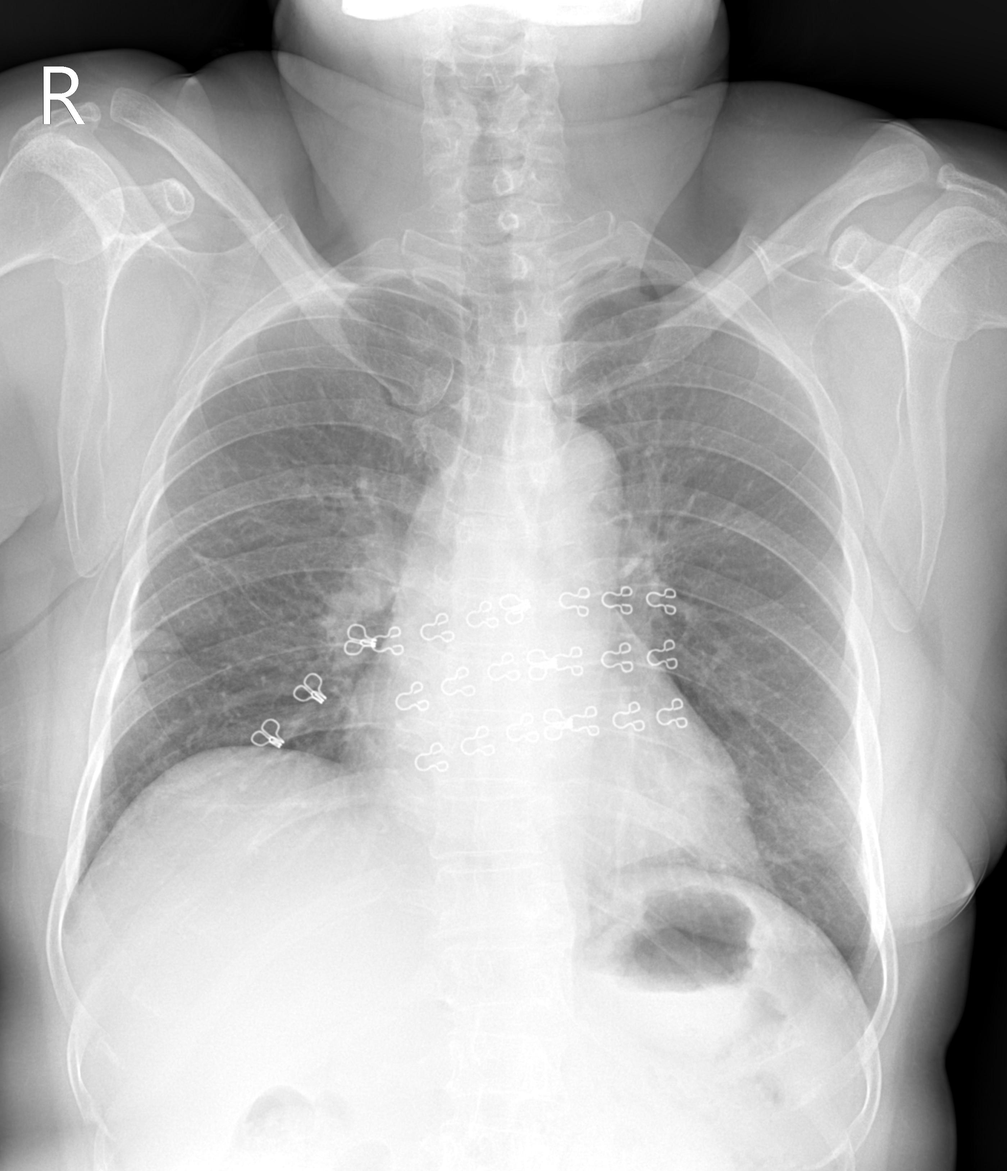Aortic enlargement: (505, 416, 624, 553)
Cardiomegaly: (332, 696, 755, 879)
